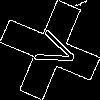V: (25, 25, 80, 74)
